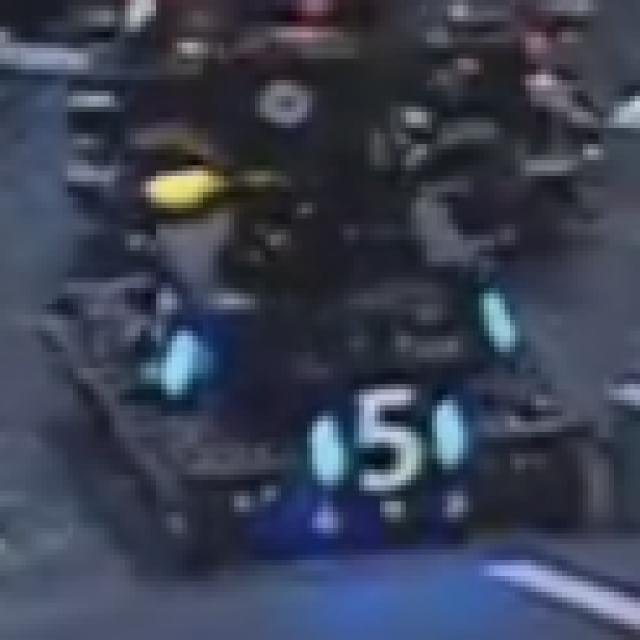B5: (302, 390, 473, 486)
